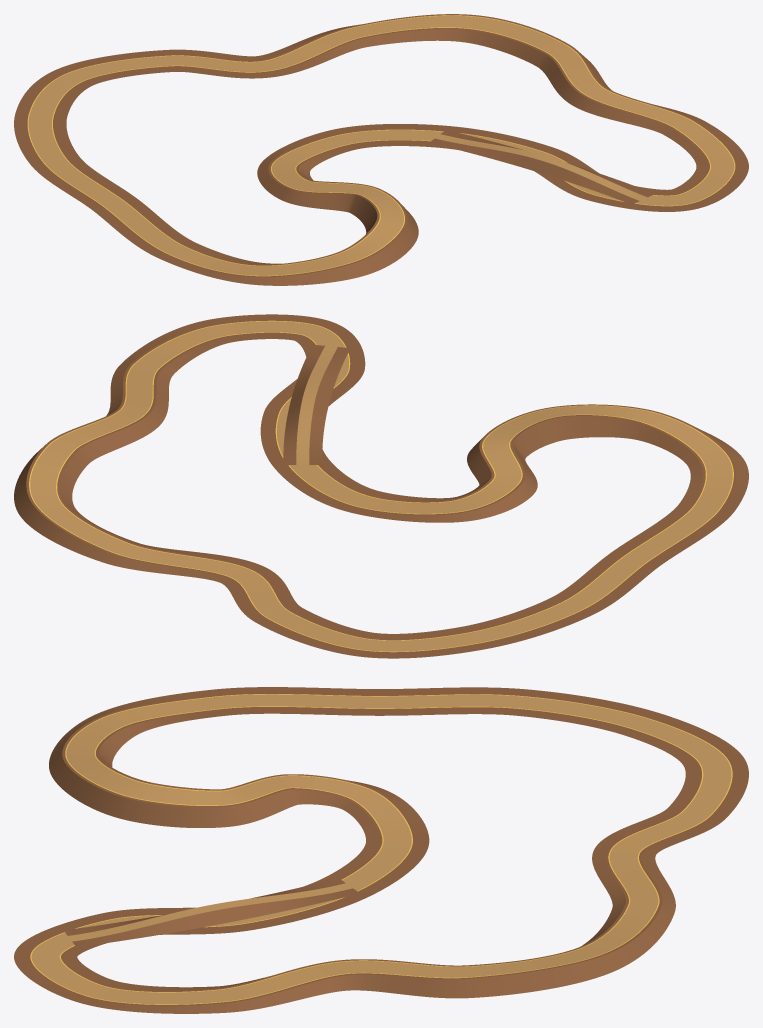
Rendered from course_girassol.glb.
3 renders of one model, top to bottom at view 1: azimuth 30°, elevation 25°; view 2: azimuth 150°, elevation 25°; view 3: azimuth 270°, elevation 25°, orthographic. The views are drawn at different scales.
Parts seen in each view (by area): view 1: Road, EarthSlopes.001, EarthSlopes, ShoulderLeft, ShoulderRight, ShortcutSlopes, EdgeLeft, EdgeRight, Shortcut, ShortcutSlopes.001; view 2: Road, EarthSlopes.001, EarthSlopes, ShoulderLeft, ShoulderRight, EdgeLeft, EdgeRight, ShortcutSlopes, Shortcut, ShortcutSlopes.001; view 3: Road, EarthSlopes, EarthSlopes.001, ShoulderLeft, ShoulderRight, ShortcutSlopes.001, EdgeLeft, EdgeRight, Shortcut, ShortcutSlopes.
Boxes of the visible parts, x1=… form: Road: x1=28, y1=15, x2=734, y2=275; EarthSlopes.001: x1=55, y1=29, x2=707, y2=264; EarthSlopes: x1=14, y1=24, x2=748, y2=285; ShoulderLeft: x1=25, y1=14, x2=737, y2=277; ShoulderRight: x1=53, y1=28, x2=709, y2=265; ShortcutSlopes: x1=429, y1=138, x2=639, y2=204; EdgeLeft: x1=27, y1=15, x2=735, y2=276; EdgeRight: x1=52, y1=27, x2=710, y2=265; Shortcut: x1=435, y1=134, x2=647, y2=200; ShortcutSlopes.001: x1=440, y1=130, x2=655, y2=197; Road: x1=30, y1=321, x2=732, y2=651; EarthSlopes.001: x1=60, y1=334, x2=702, y2=638; EarthSlopes: x1=14, y1=314, x2=748, y2=658; ShoulderLeft: x1=26, y1=319, x2=736, y2=653; ShoulderRight: x1=57, y1=332, x2=705, y2=640; EdgeLeft: x1=29, y1=320, x2=733, y2=652; EdgeRight: x1=56, y1=332, x2=706, y2=640; ShortcutSlopes: x1=309, y1=347, x2=350, y2=464; Shortcut: x1=296, y1=346, x2=337, y2=464; ShortcutSlopes.001: x1=283, y1=344, x2=324, y2=465; Road: x1=31, y1=694, x2=731, y2=1004; EarthSlopes: x1=14, y1=687, x2=748, y2=1013; EarthSlopes.001: x1=64, y1=708, x2=698, y2=990; ShoulderLeft: x1=27, y1=692, x2=735, y2=1006; ShoulderRight: x1=61, y1=707, x2=701, y2=991; ShortcutSlopes.001: x1=72, y1=888, x2=359, y2=947; EdgeLeft: x1=30, y1=694, x2=732, y2=1004; EdgeRight: x1=59, y1=706, x2=703, y2=992; Shortcut: x1=68, y1=883, x2=352, y2=941; ShortcutSlopes: x1=64, y1=878, x2=345, y2=935.
Size of the model in its own units: 440 by 12.28 by 418.
